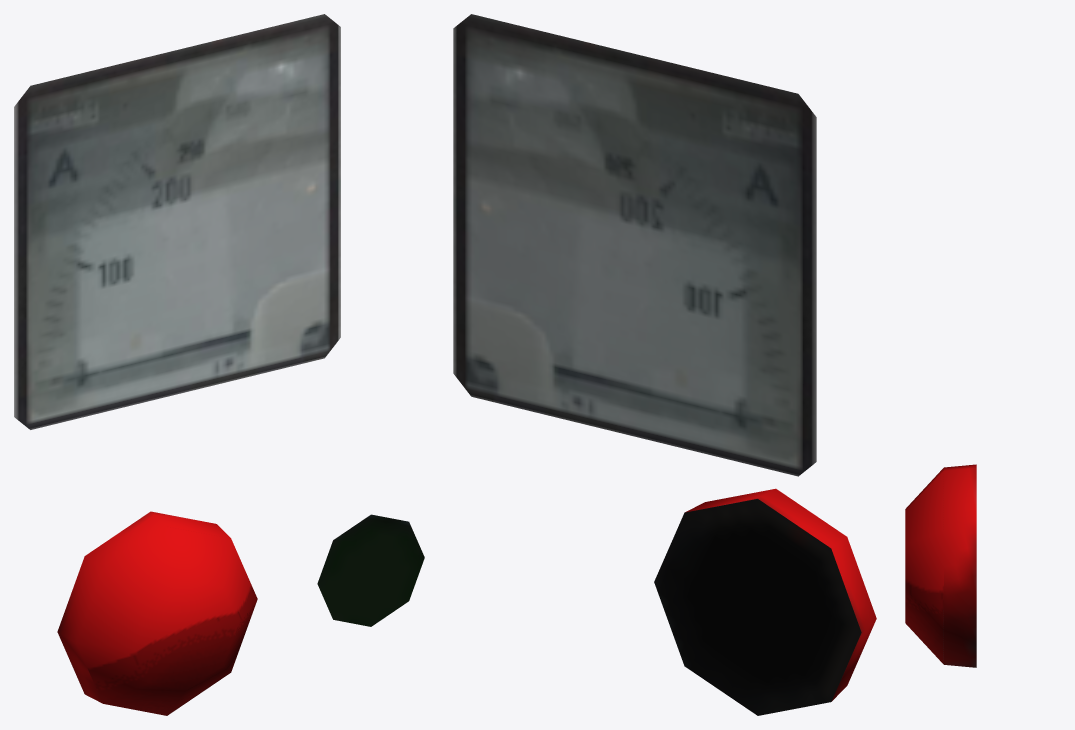
Rendered from Panel_Button.fbx.
The picture shows the model from 3 angles, left to right: view 1: azimuth 30°, elevation 25°; view 2: azimuth 150°, elevation 25°; view 3: azimuth 270°, elevation 25°; orthographic projection. The views are drawn at different scales.
Parts seen in each view (by area): view 1: Screen, Button, Green_Button; view 2: Screen, Button; view 3: Button.
Part boxes in pixels (left/top/right/bottom): Screen: left=14, top=14, right=340, bottom=429; Button: left=57, top=511, right=257, bottom=715; Green_Button: left=317, top=514, right=424, bottom=626; Screen: left=453, top=14, right=816, bottom=476; Button: left=654, top=488, right=876, bottom=715; Button: left=905, top=464, right=976, bottom=667.
Size of the model in its own units: 6.39 by 10.73 by 2.47.
Materials: 2 (2 with a texture image).
